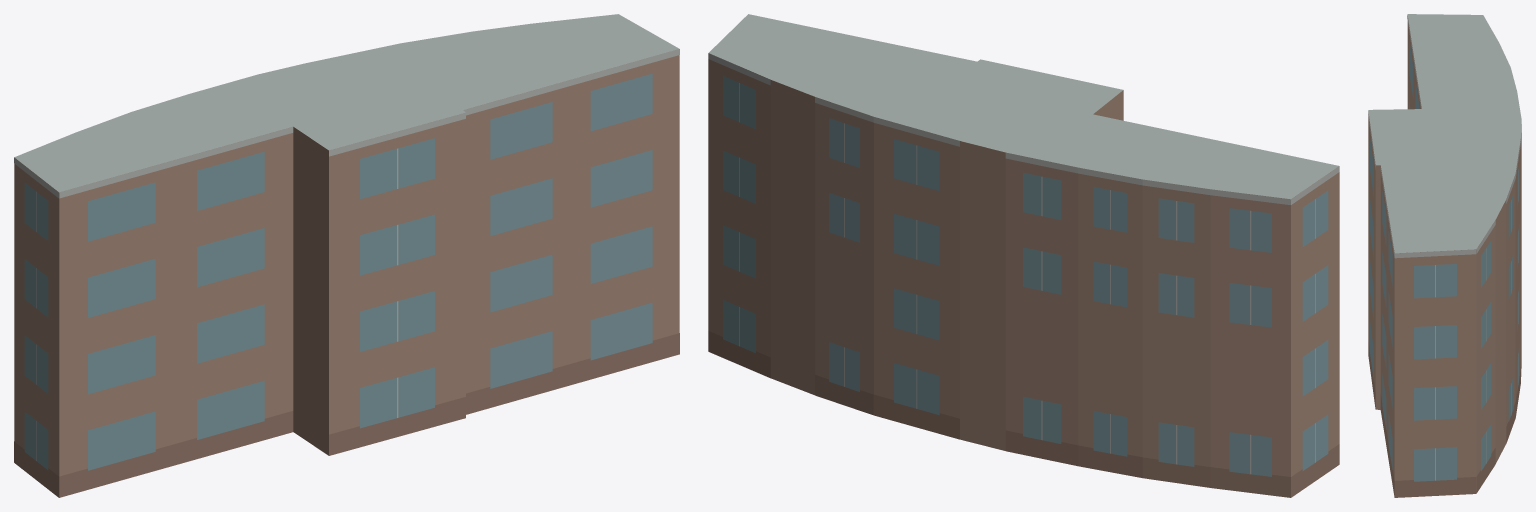
Rendered from survey-upis-32896723.glb.
The picture shows the model from 3 angles, left to right: view 1: azimuth 30°, elevation 25°; view 2: azimuth 150°, elevation 25°; view 3: azimuth 270°, elevation 25°; orthographic projection. The views are drawn at different scales.
Parts seen in each view (by area): view 1: survey-upis-32896723.tmp; view 2: survey-upis-32896723.tmp; view 3: survey-upis-32896723.tmp.
Boxes of the visible parts, x1,y1,x2,y2 form: survey-upis-32896723.tmp: (14, 14, 679, 497); survey-upis-32896723.tmp: (708, 14, 1339, 497); survey-upis-32896723.tmp: (1368, 14, 1521, 497).
Bounding box in the file's own units: 25.62 × 12.2 × 6.95.
